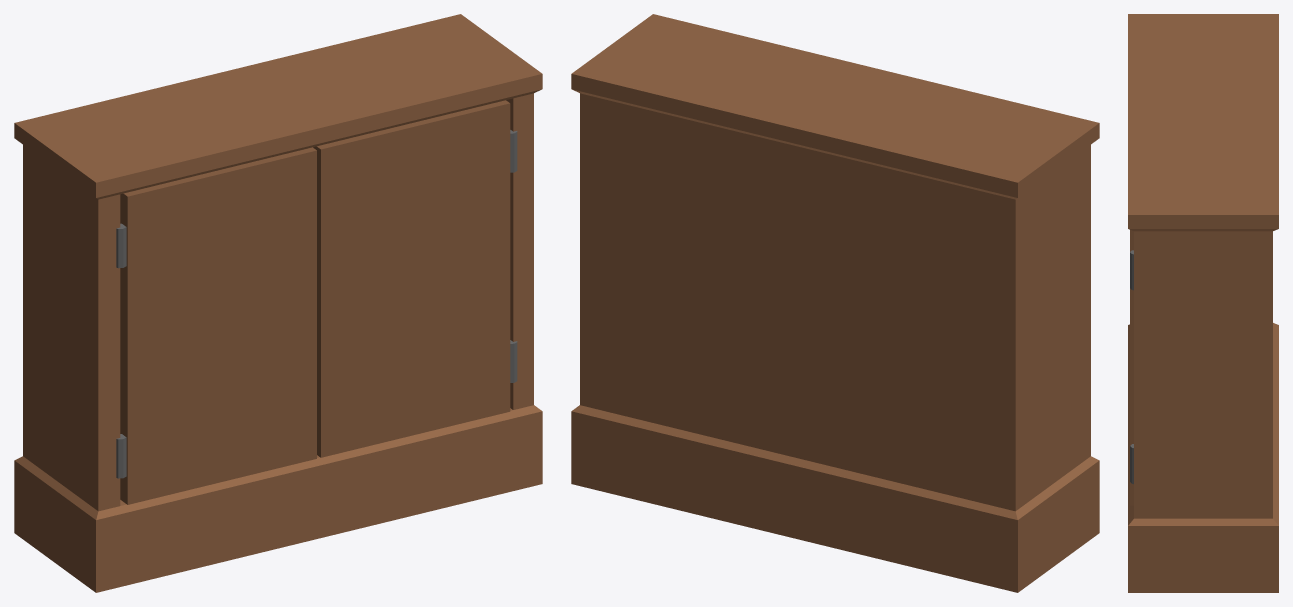
The model's file is KitchenCabinet.fbx.
3 renders of one model, left to right at view 1: azimuth 30°, elevation 25°; view 2: azimuth 150°, elevation 25°; view 3: azimuth 270°, elevation 25°, orthographic. The views are drawn at different scales.
Parts seen in each view (by area): view 1: KitchenCabinet, LeftDoor, RightDooe; view 2: KitchenCabinet; view 3: KitchenCabinet, RightDooe.
Boxes of the visible parts, x1,y1,x2,y2 form: KitchenCabinet: [14, 14, 542, 592]; LeftDoor: [116, 147, 316, 504]; RightDooe: [313, 100, 517, 457]; KitchenCabinet: [571, 14, 1099, 592]; KitchenCabinet: [1128, 14, 1278, 592]; RightDooe: [1130, 230, 1133, 505].
Bounding box in the file's own units: 205 × 180 × 65.
